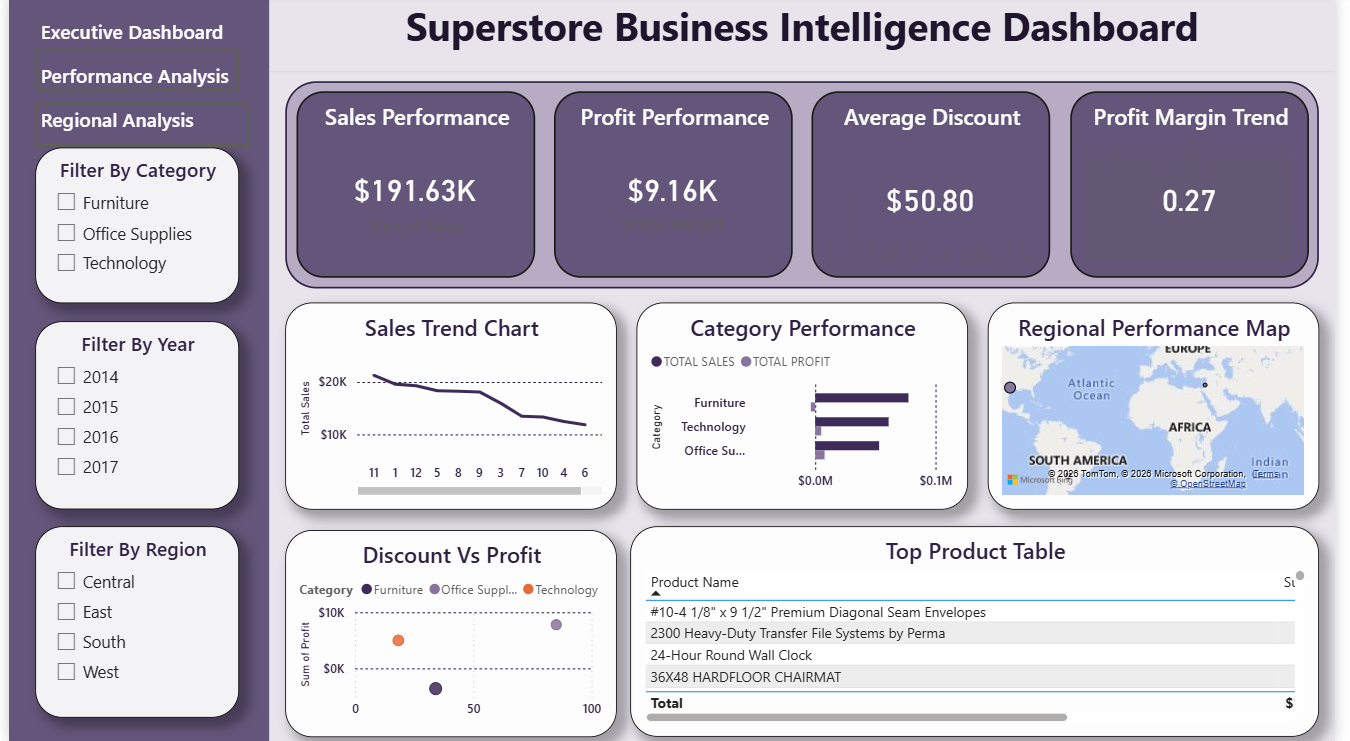

The dashboard page shown, as its layout file describes it:
{"tool":"powerbi","page":{"name":"Executive Dashboard ","canvas":[1280,720],"ordinal":0},"visuals":[{"type":"textbox","box":[0,0,251.1,720.4],"z":0},{"type":"textbox","box":[251,74,1029,646],"z":1000},{"type":"textbox","box":[266.2,83.7,997.6,200.3],"z":2000},{"type":"card","title":"Sales Performance","fields":{"Values":["Sum(superstore sales _hackethon1 (1).Sales)"]},"box":[277.2,93.3,230,179.8],"z":4000},{"type":"card","title":"Profit Performance","fields":{"Values":["superstore sales _hackethon1 (1).TOTAL PROFIT"]},"box":[526,93.3,230,179.8],"z":5000},{"type":"kpi","title":"Profit Margin Trend","fields":{"TrendLine":["superstore sales _hackethon1 (1).Order Date"],"Indicator":["superstore sales _hackethon1 (1).Profit Margin %"]},"box":[1023.7,93.3,230,179.8],"z":6000},{"type":"kpi","title":"Average Discount","fields":{"Indicator":["superstore sales _hackethon1 (1).Average Discount"],"TrendLine":["superstore sales _hackethon1 (1).City"]},"box":[774.8,93.3,230,179.8],"z":7000},{"type":"lineChart","title":"Sales Trend Chart","fields":{"Y":["superstore sales _hackethon1 (1).TOTAL SALES"],"Category":["superstore sales _hackethon1 (1).Month"]},"box":[266.2,296.2,320,200],"z":8000},{"type":"clusteredBarChart","title":"Category Performance","fields":{"Category":["superstore sales _hackethon1 (1).Category"],"Y":["superstore sales _hackethon1 (1).TOTAL SALES","superstore sales _hackethon1 (1).TOTAL PROFIT"]},"box":[605.6,296.2,320,200],"z":9000},{"type":"map","title":"Regional Performance Map","fields":{"Size":["superstore sales _hackethon1 (1).TOTAL PROFIT"],"Category":["superstore sales _hackethon1 (1).Region"]},"box":[945,296.2,320,200],"z":10000},{"type":"scatterChart","title":"Discount Vs Profit","fields":{"Y":["Sum(superstore sales _hackethon1 (1).Profit)"],"Size":["Sum(superstore sales _hackethon1 (1).Sales)"],"Series":["superstore sales _hackethon1 (1).Category"],"X":["Sum(superstore sales _hackethon1 (1).Discount)"]},"box":[266.7,516.7,320,200],"z":11000},{"type":"tableEx","title":"Top Product Table","fields":{"Values":["superstore sales _hackethon1 (1).Product Name","Sum(superstore sales _hackethon1 (1).Sales)","Sum(superstore sales _hackethon1 (1).Profit)","Sum(superstore sales _hackethon1 (1).Quantity)"]},"box":[600,513.3,665,203.3],"z":12000},{"type":"textbox","box":[251.1,0,1029.2,74.1],"z":17000},{"type":"slicer","title":"Filter By Category","fields":{"Values":["superstore sales _hackethon1 (1).Category"]},"box":[25,146.7,196.7,150],"z":17500},{"type":"slicer","title":"Filter By Year","fields":{"Values":["superstore sales _hackethon1 (1).Year"]},"box":[25,315,196.7,181.7],"z":18000},{"type":"slicer","title":"Filter By Region","fields":{"Values":["superstore sales _hackethon1 (1).Region"]},"box":[25,513.3,196.7,185],"z":18500},{"type":"actionButton","box":[25.7,51.4,197.1,41.4],"z":18501},{"type":"actionButton","box":[25.7,104.3,207.1,42.9],"z":18502}]}

Visuals, with their boxes in screenshot pixels (x1, y1, x2, y2), scaled from the page's 1280x720 canvas onto the 1350x741 screenshot:
textbox: (0, 0, 265, 740)
textbox: (265, 76, 1349, 740)
textbox: (281, 86, 1333, 292)
"Sales Performance" card: (292, 96, 535, 281)
"Profit Performance" card: (555, 96, 797, 281)
"Profit Margin Trend" kpi: (1080, 96, 1322, 281)
"Average Discount" kpi: (817, 96, 1060, 281)
"Sales Trend Chart" lineChart: (281, 305, 618, 511)
"Category Performance" clusteredBarChart: (639, 305, 976, 511)
"Regional Performance Map" map: (997, 305, 1334, 511)
"Discount Vs Profit" scatterChart: (281, 532, 619, 738)
"Top Product Table" tableEx: (633, 528, 1334, 738)
textbox: (265, 0, 1349, 76)
"Filter By Category" slicer: (26, 151, 234, 305)
"Filter By Year" slicer: (26, 324, 234, 511)
"Filter By Region" slicer: (26, 528, 234, 719)
actionButton: (27, 53, 235, 96)
actionButton: (27, 107, 246, 151)
